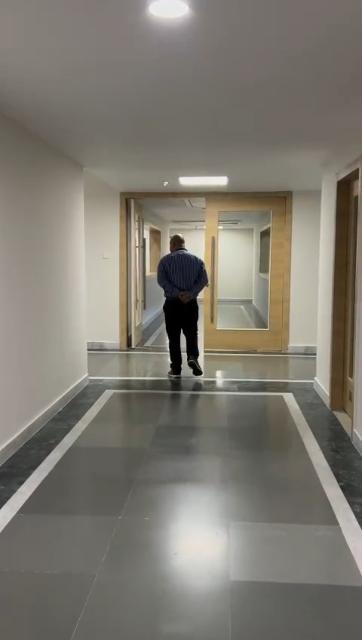floor: (0, 353, 362, 640)
moving-obj: (147, 208, 227, 388)
wall: (0, 112, 123, 452)
